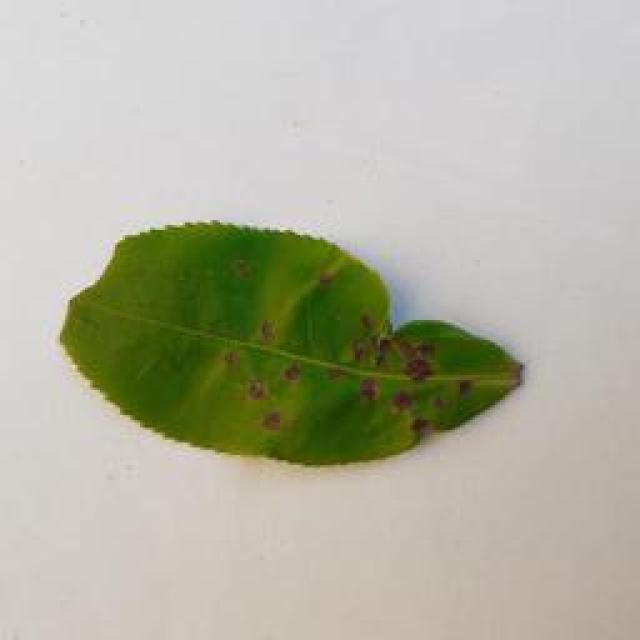Helopeltis: (41, 205, 550, 480)
